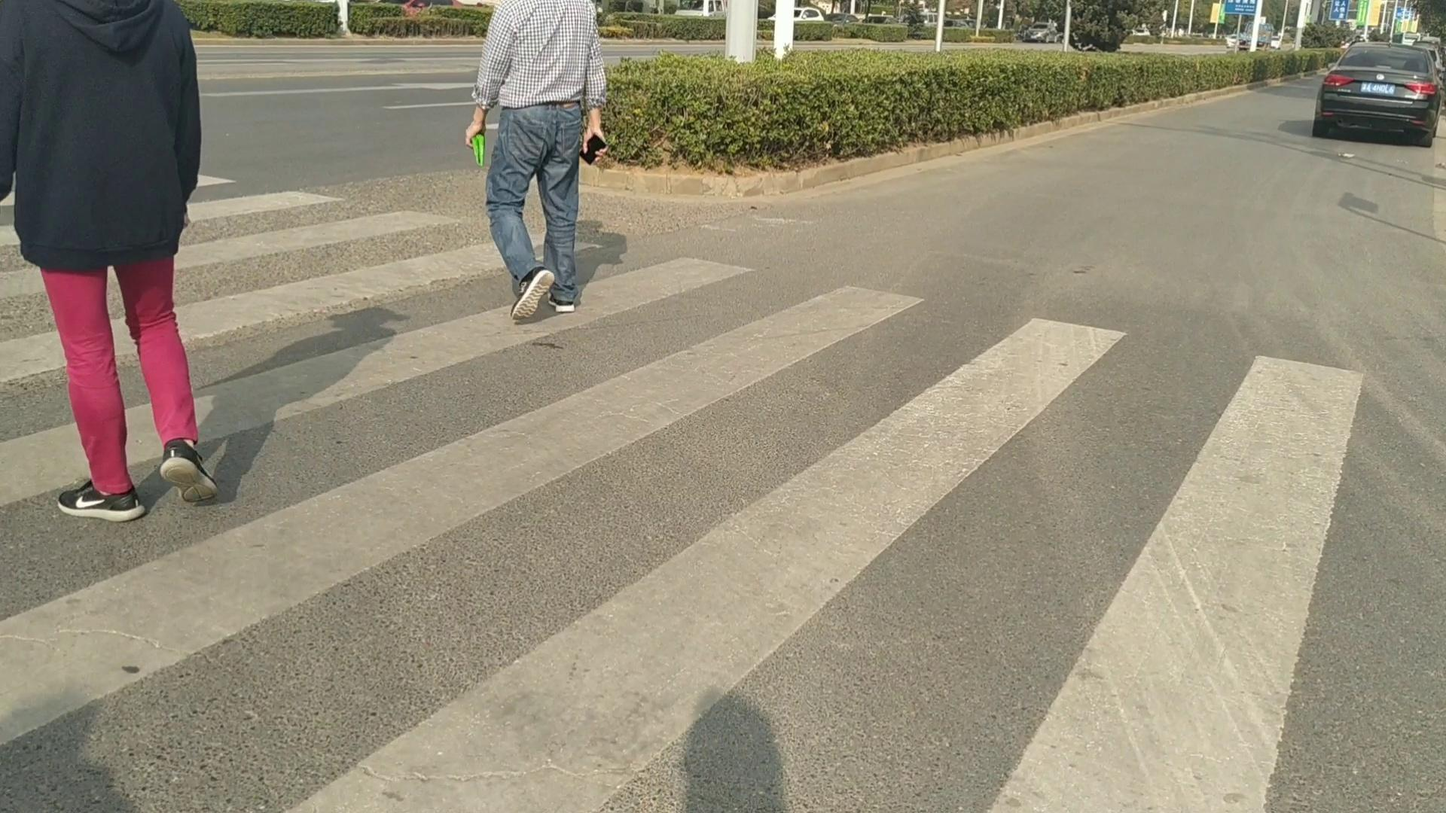car: (1313, 42, 1441, 145), (1231, 29, 1280, 50), (1017, 24, 1061, 43)
